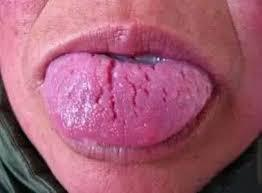liewenshe: (105, 58, 120, 122)
zishe: (43, 51, 213, 147)
